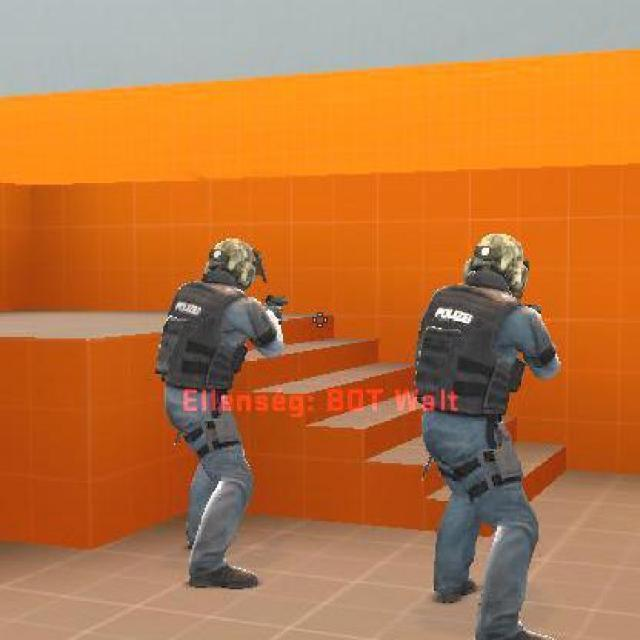CT-Body: (461, 226, 534, 302), (200, 235, 262, 300)
CT-Head: (410, 231, 568, 638), (154, 237, 283, 591)
